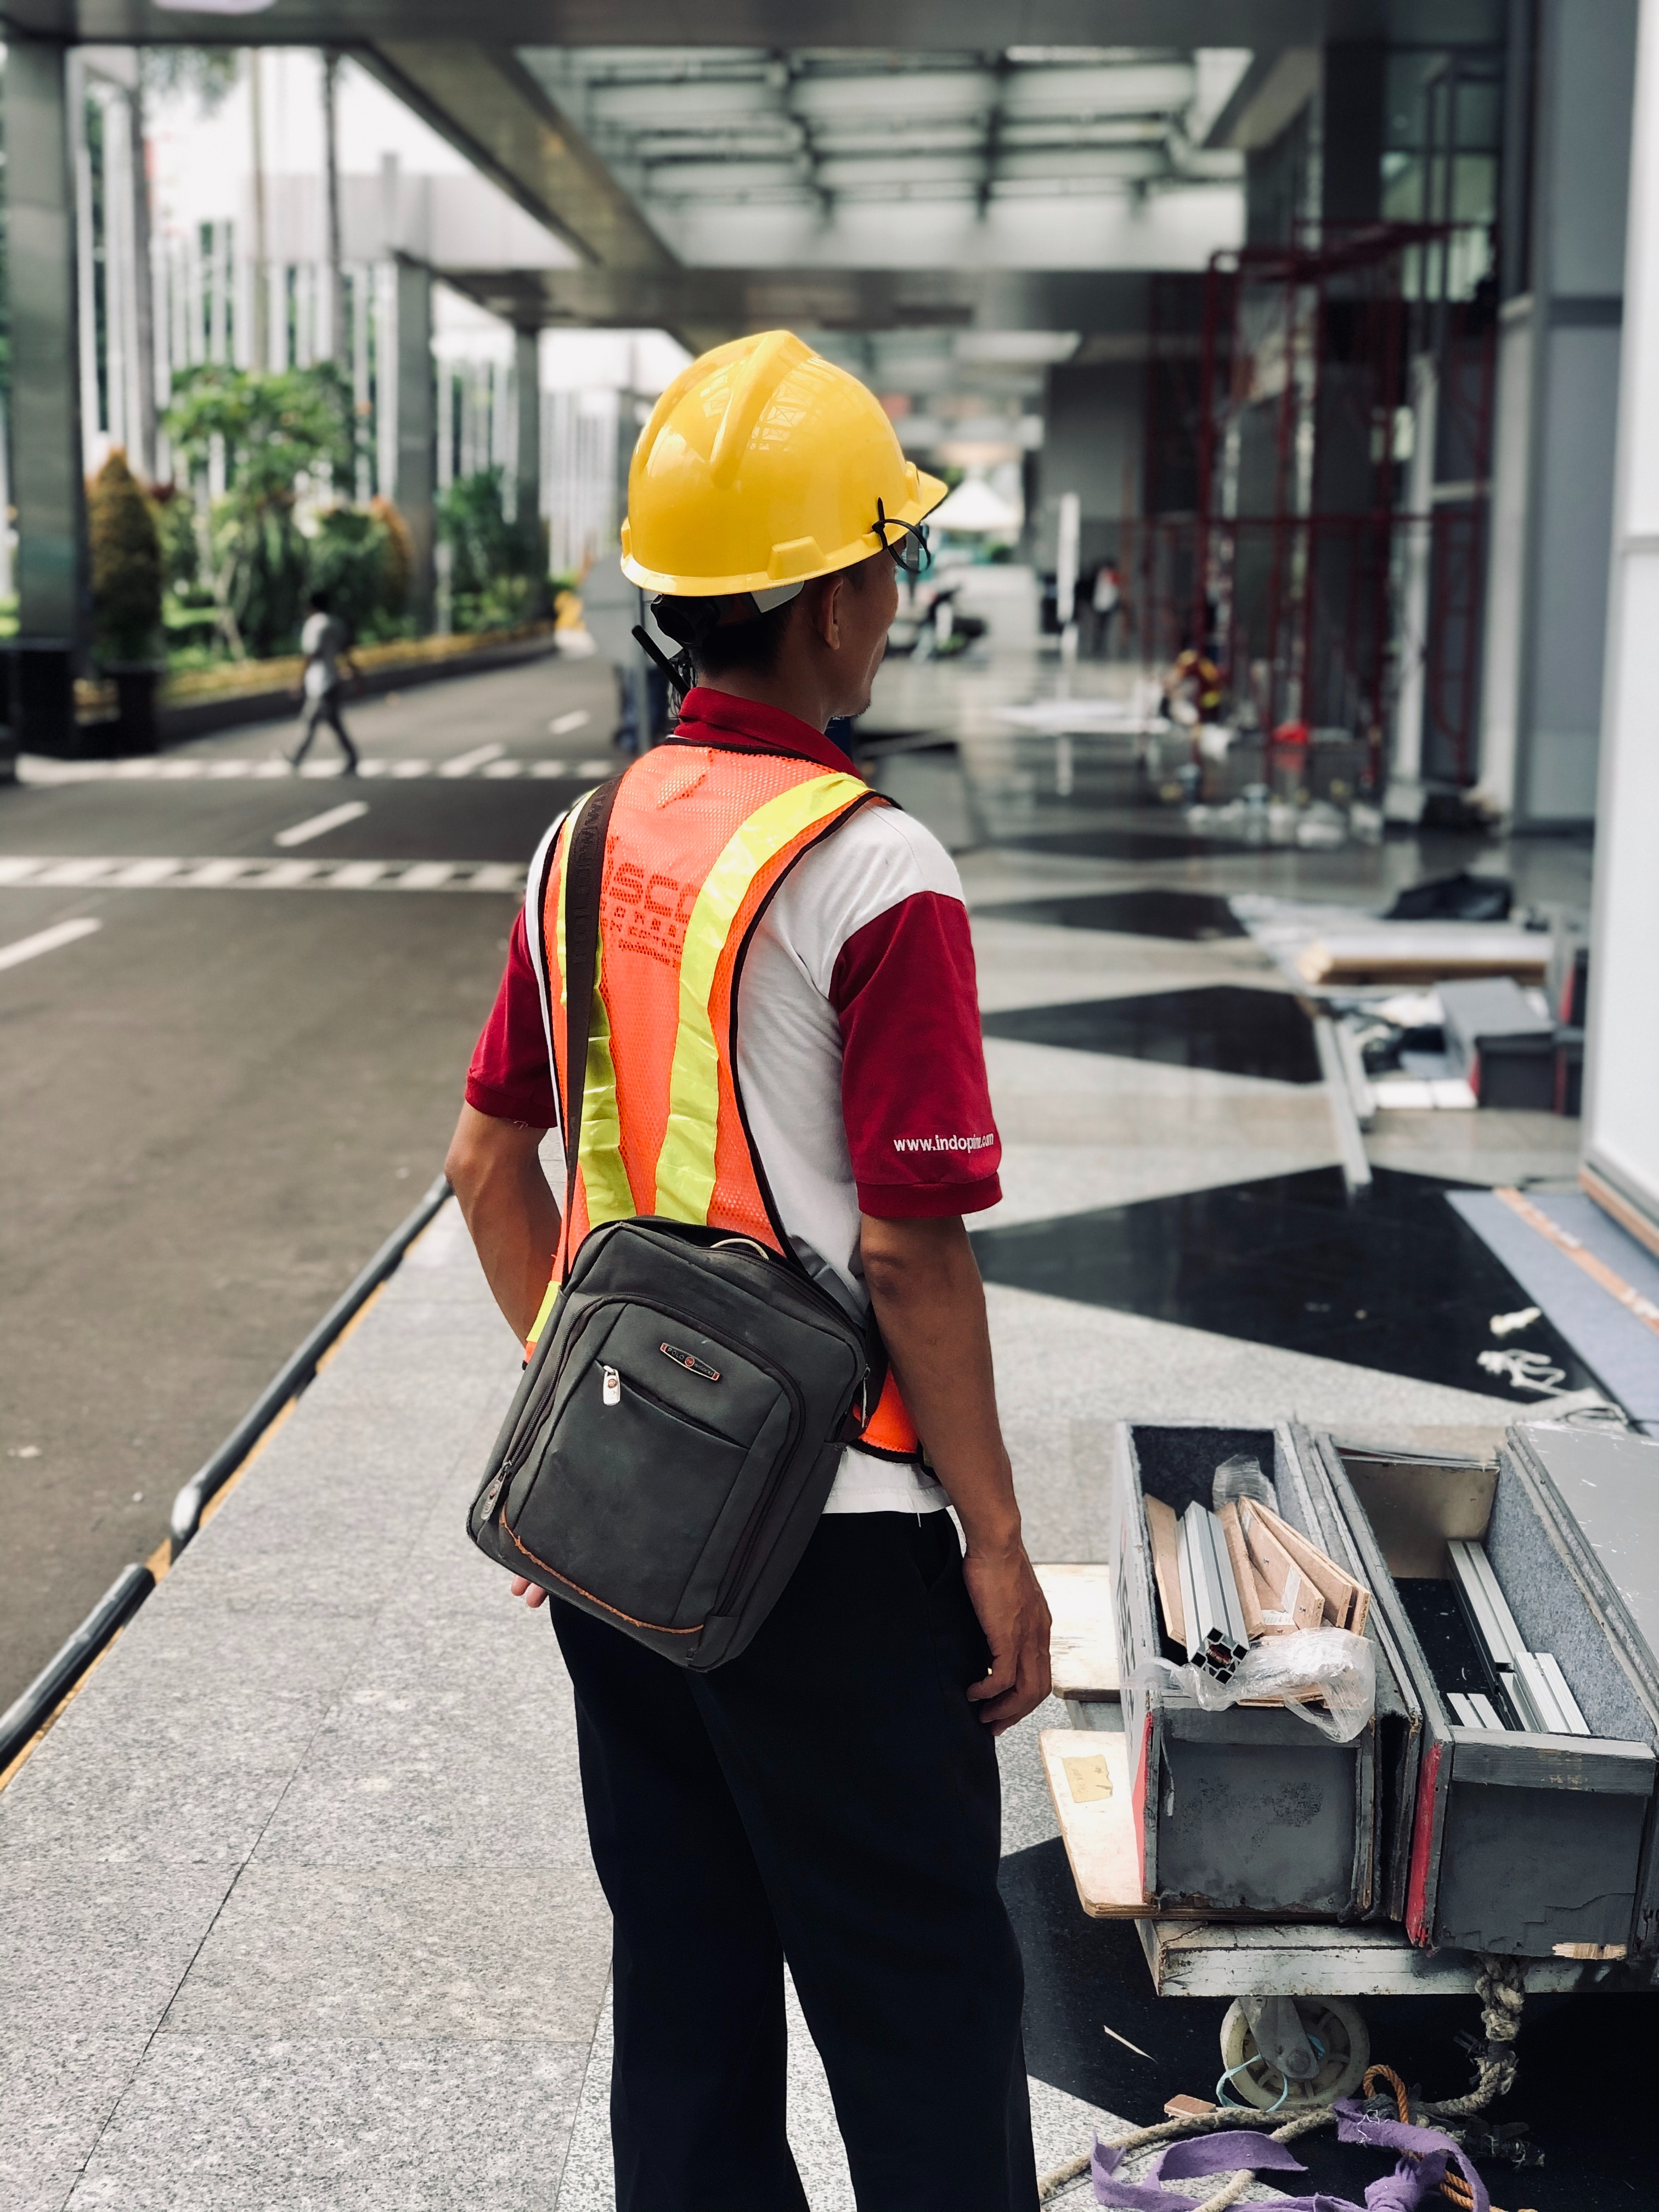Helmet: (561, 293, 1011, 779)
Reflective vest: (497, 719, 943, 1463)
